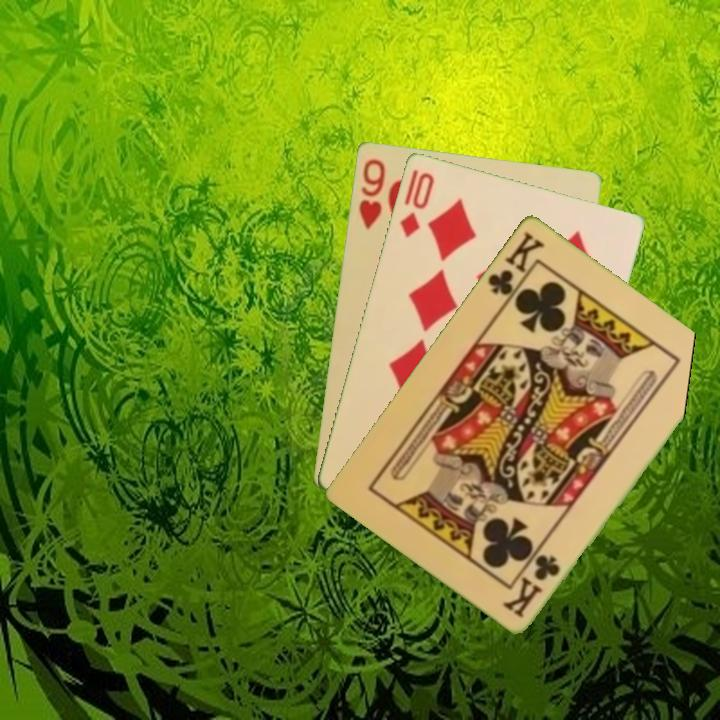10d: (395, 165, 437, 241)
9h: (354, 155, 388, 232)
Kc: (484, 227, 548, 308), (500, 550, 564, 620)
